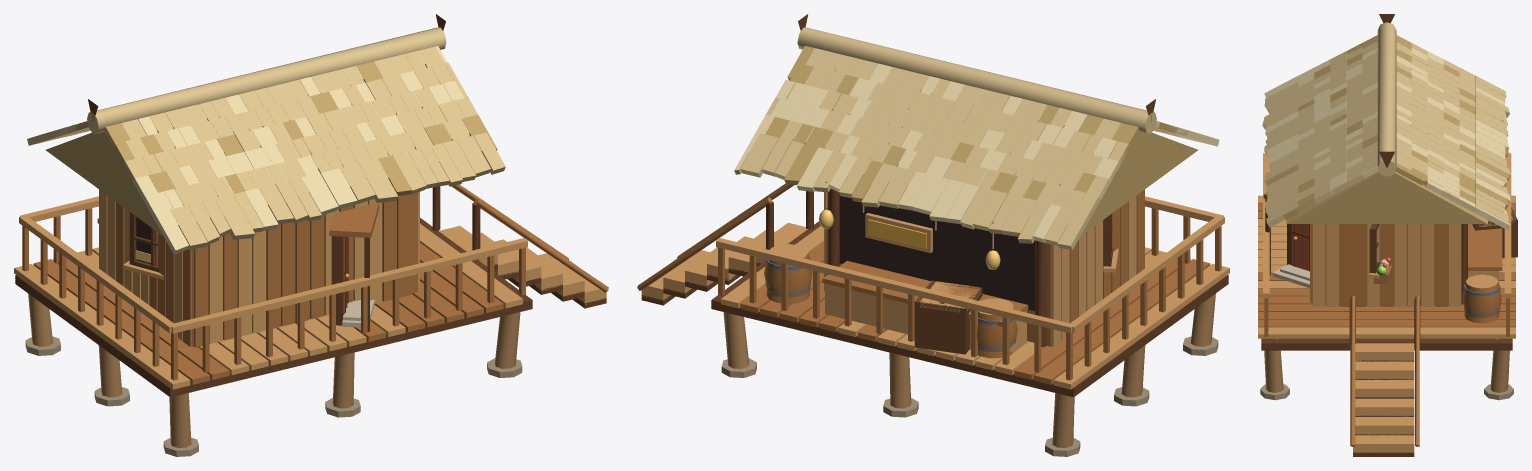
File: building_reception.obj
3 views of the same model, side by side, from view 1: azimuth 30°, elevation 25°; view 2: azimuth 150°, elevation 25°; view 3: azimuth 270°, elevation 25° (orthographic). The views are drawn at different scales.
Visible parts, largest first — view 1: building_reception_thatch_mid, building_reception_wood_mid, building_reception_wood_light, building_reception_thatch_light, building_reception_wood_dark, building_reception_thatch_dark, building_reception_trunk, building_reception_stone_dark; view 2: building_reception_thatch_mid, building_reception_wood_light, building_reception_wood_mid, building_reception_thatch_light, building_reception_wood_dark, building_reception_glass, building_reception_thatch_dark, building_reception_trunk, building_reception_stone_dark, building_reception_gold; view 3: building_reception_thatch_mid, building_reception_wood_light, building_reception_wood_mid, building_reception_thatch_dark, building_reception_thatch_light, building_reception_wood_dark, building_reception_trunk, building_reception_wood_red, building_reception_stone_dark, building_reception_stone, building_reception_metal.
Boxes of the visible parts, <box> form: building_reception_thatch_mid: <box>27,27,505,249</box>; building_reception_wood_mid: <box>22,184,608,384</box>; building_reception_wood_light: <box>14,189,606,389</box>; building_reception_thatch_light: <box>54,46,464,254</box>; building_reception_wood_dark: <box>15,14,606,397</box>; building_reception_thatch_dark: <box>46,61,497,236</box>; building_reception_trunk: <box>28,293,520,447</box>; building_reception_stone_dark: <box>25,336,522,456</box>; building_reception_thatch_mid: <box>740,27,1199,250</box>; building_reception_wood_light: <box>641,192,1229,389</box>; building_reception_wood_mid: <box>637,183,1221,384</box>; building_reception_thatch_light: <box>734,55,1219,242</box>; building_reception_wood_dark: <box>641,14,1228,397</box>; building_reception_glass: <box>839,194,1035,310</box>; building_reception_thatch_dark: <box>765,45,1198,236</box>; building_reception_trunk: <box>723,293,1215,447</box>; building_reception_stone_dark: <box>721,336,1218,456</box>; building_reception_gold: <box>868,219,926,248</box>; building_reception_thatch_mid: <box>1262,22,1511,227</box>; building_reception_wood_light: <box>1258,152,1515,452</box>; building_reception_wood_mid: <box>1258,192,1515,446</box>; building_reception_thatch_dark: <box>1266,35,1509,223</box>; building_reception_thatch_light: <box>1264,47,1510,229</box>; building_reception_wood_dark: <box>1261,14,1517,456</box>; building_reception_trunk: <box>1264,338,1509,392</box>; building_reception_wood_red: <box>1291,224,1309,270</box>; building_reception_stone_dark: <box>1260,384,1513,400</box>; building_reception_stone: <box>1272,264,1309,287</box>; building_reception_metal: <box>1464,283,1500,316</box>.
Bounding box in the file's own units: 6.83 × 4.03 × 3.83.
